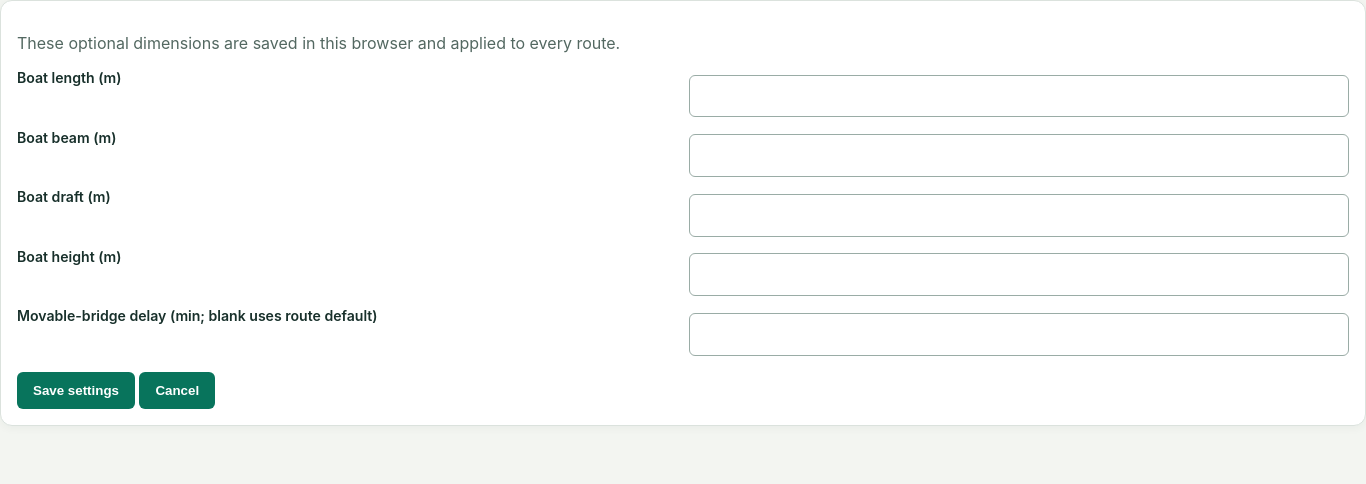
Test: movable-bridge delay control › renders an error without saving an invalid delay
This screenshot has width=1366, height=484.
In the number field labelled "Movable-bridge delay (min; blank uses route default)": (1019, 334) [689,313,1349,356], type "-0.5"
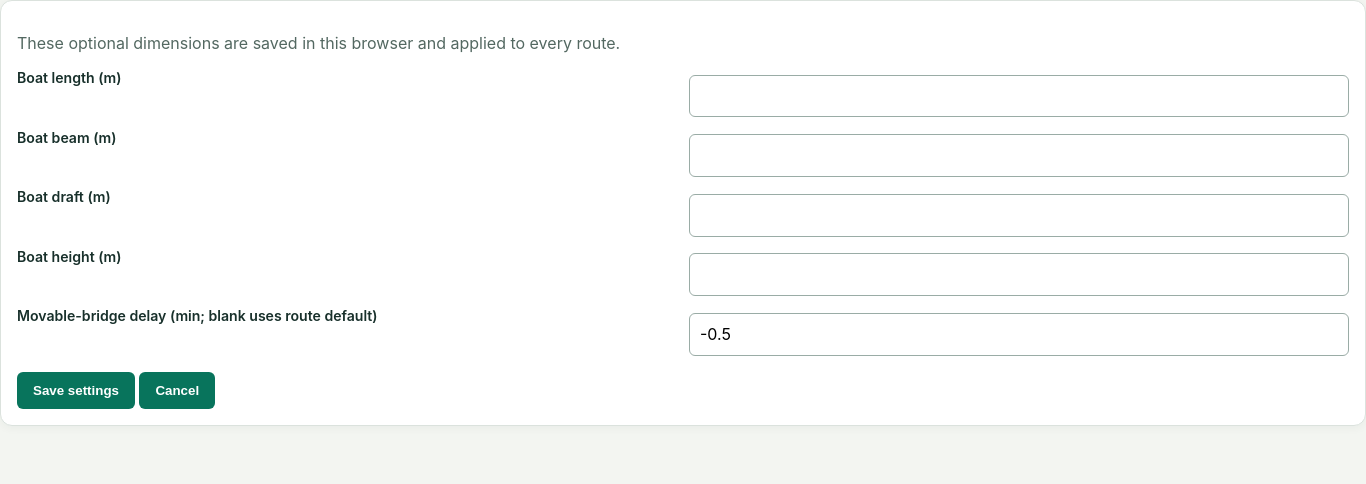
Click the button "Save settings": (76, 390) [17,372,135,409]
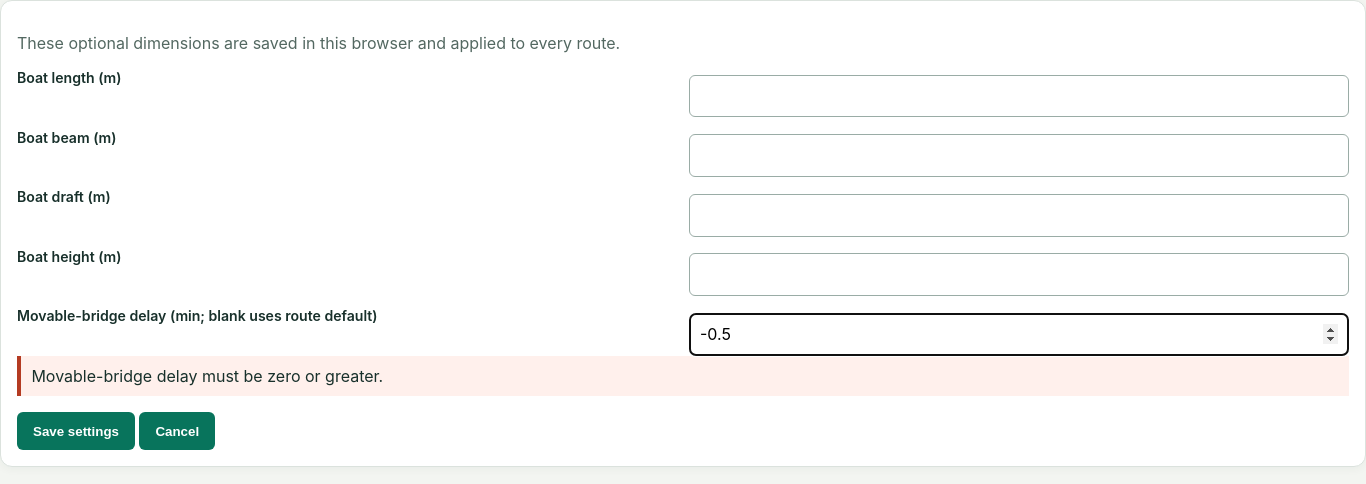
Result: the message reads "Movable-bridge delay must be zero or greater." at [31,366,383,386]
